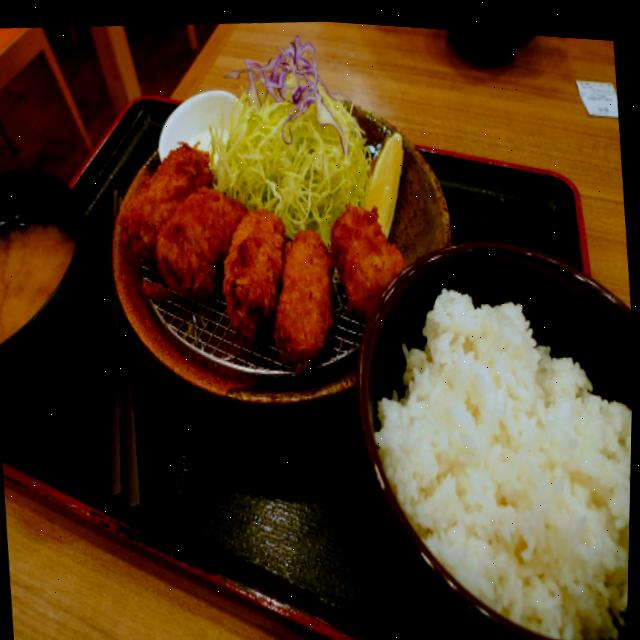米饭主食: (337, 195, 637, 635)
